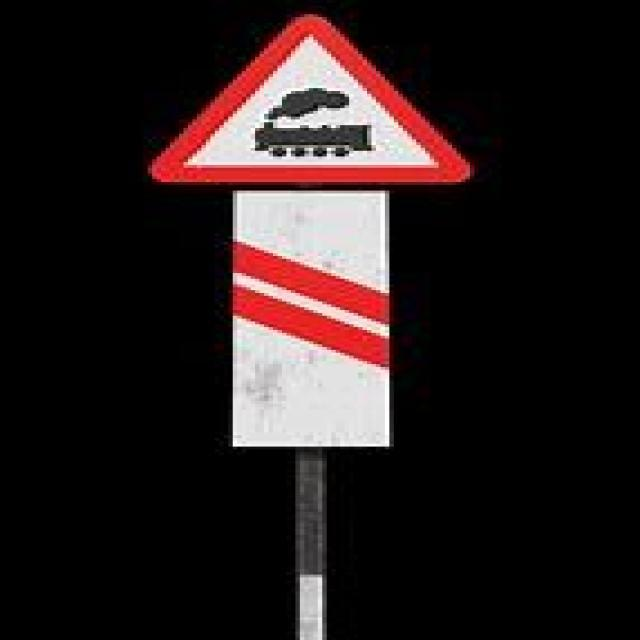unguarded level crossing: (141, 10, 470, 182)
